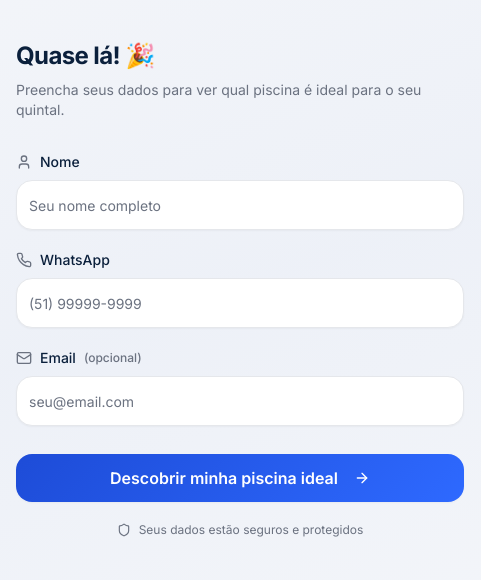
Test: LeadForm › shows validation errors when submitted empty
What coordinates should you click on to do the following:
click the button "Descobrir minha piscina ideal"
I would click on:
 (240, 478)
Its box is [16,454,464,502].
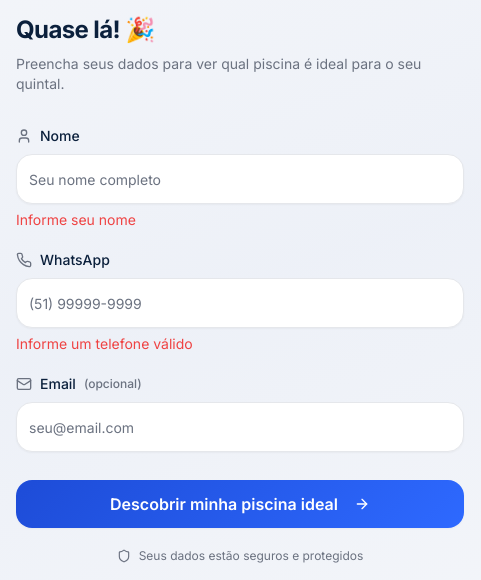
Check: the text "Informe seu nome" is shown, box [16,211,136,228]
Check: the text "Informe um telefone válido" is shown, box [16,335,193,352]
